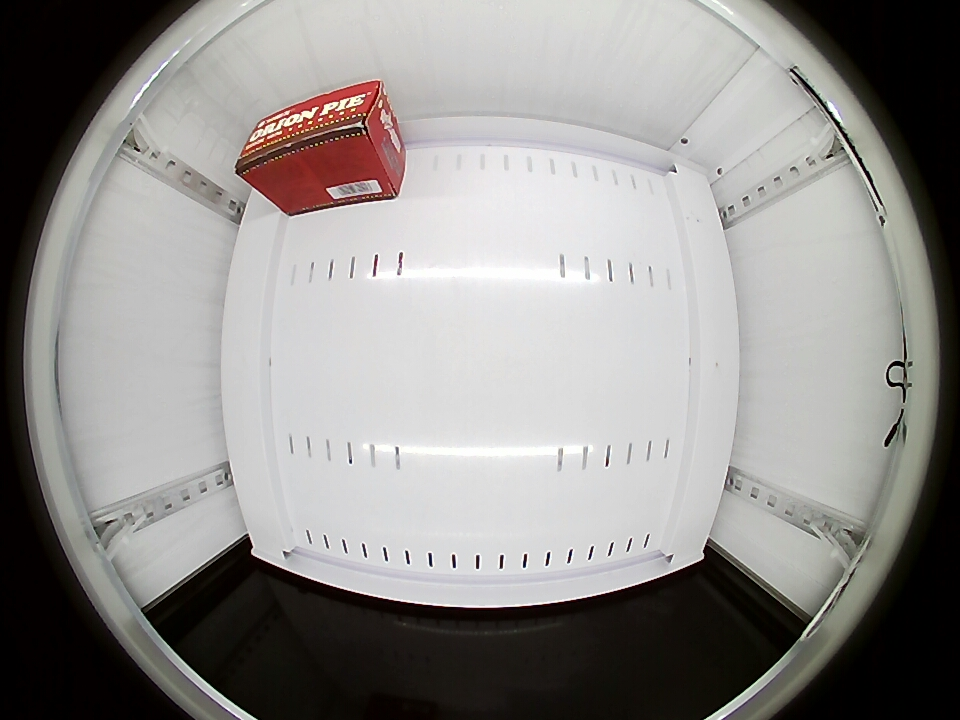haoliyou: (234, 79, 394, 197)
